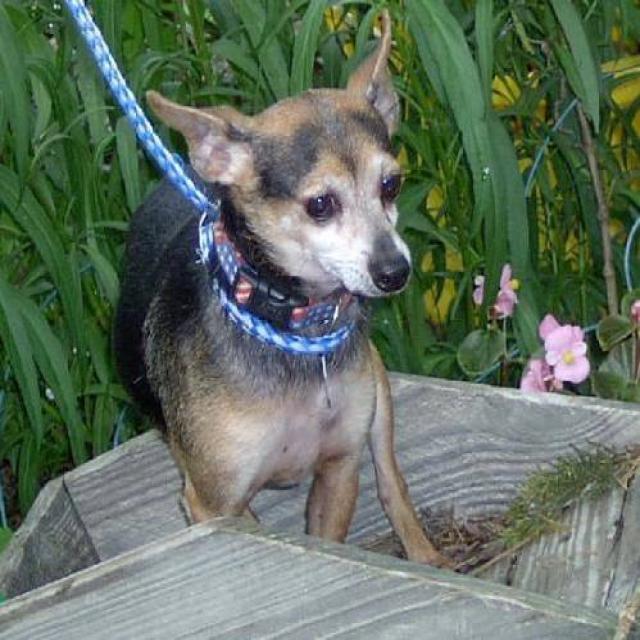dog: (110, 6, 462, 574)
